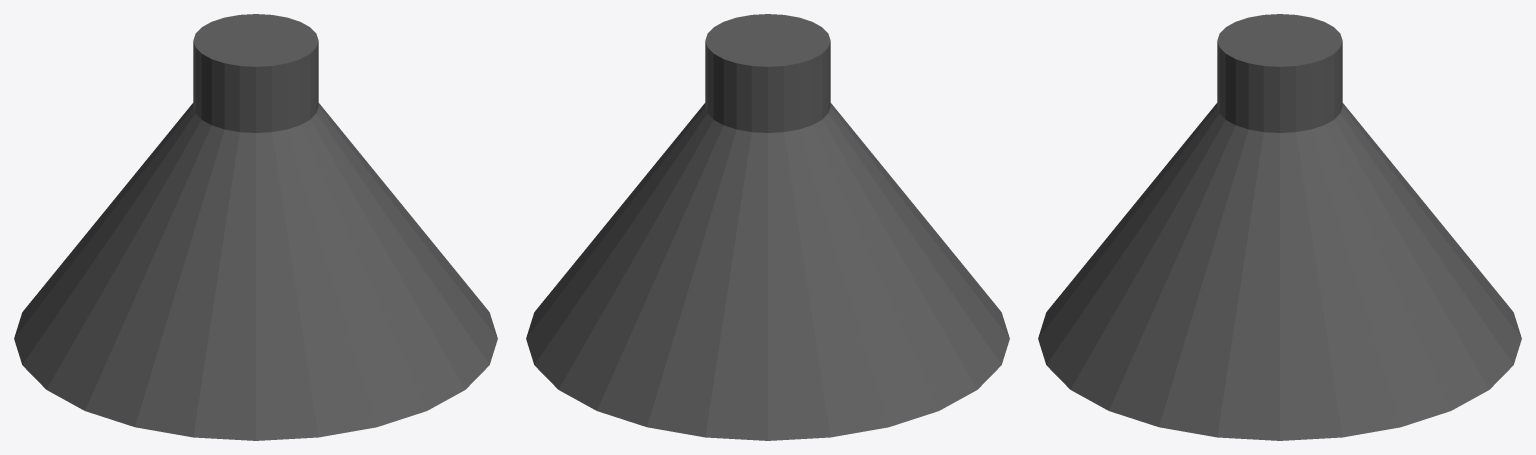
File: Lamp.fbx
3 renders of one model, left to right at view 1: azimuth 30°, elevation 25°; view 2: azimuth 150°, elevation 25°; view 3: azimuth 270°, elevation 25°, orthographic.
Visible parts, largest first — view 1: Lamp; view 2: Lamp; view 3: Lamp.
Boxes of the visible parts, x1,y1,x2,y2 form: Lamp: (14, 14, 497, 440); Lamp: (526, 14, 1009, 440); Lamp: (1038, 14, 1521, 440).
Size of the model in its own units: 151 by 113 by 151.
